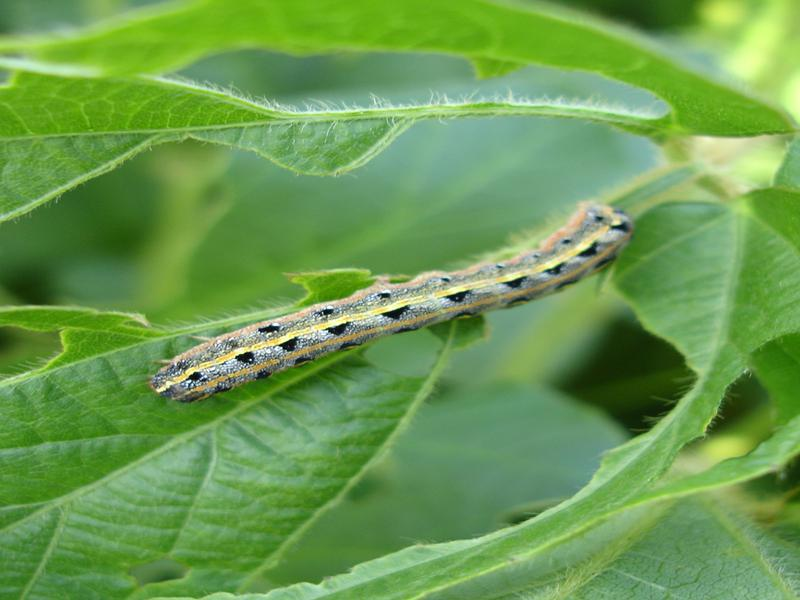Armyworms: (119, 198, 649, 405)
